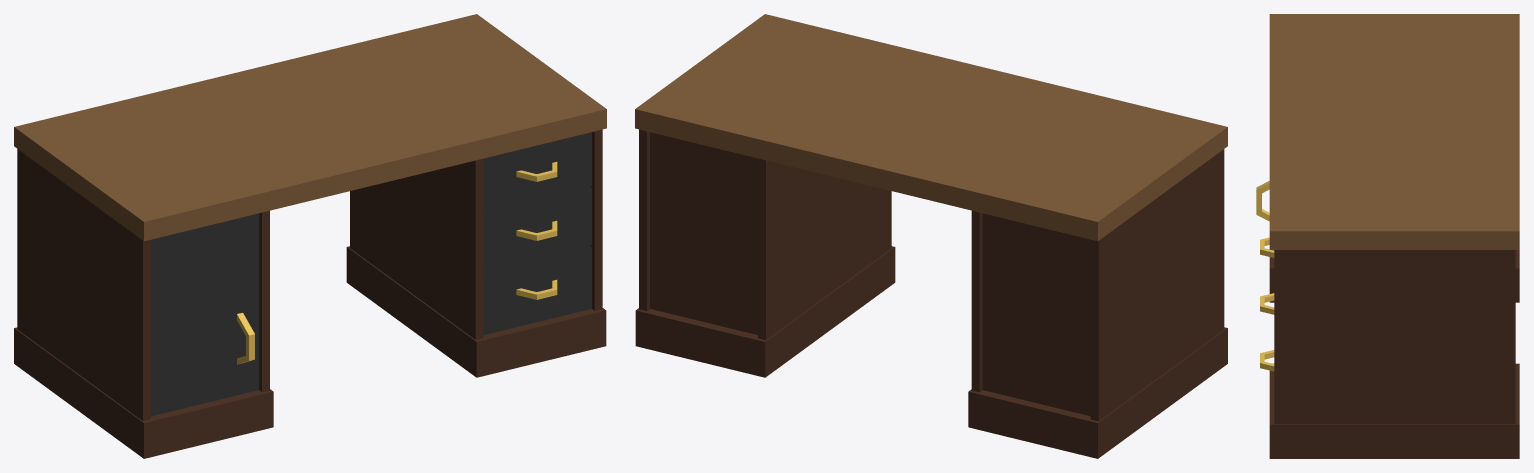
The model's file is Desk_1B.fbx.
3 views of the same model, side by side, from view 1: azimuth 30°, elevation 25°; view 2: azimuth 150°, elevation 25°; view 3: azimuth 270°, elevation 25° (orthographic). The views are drawn at different scales.
Visible parts, largest first — view 1: polySurface1701; view 2: polySurface1701; view 3: polySurface1701.
Boxes of the visible parts, <box> form: polySurface1701: <box>14,14,606,458</box>; polySurface1701: <box>635,14,1227,458</box>; polySurface1701: <box>1256,14,1519,458</box>.
Bounding box in the file's own units: 2.05 × 1 × 1.05.
1 material, 1 textured.
